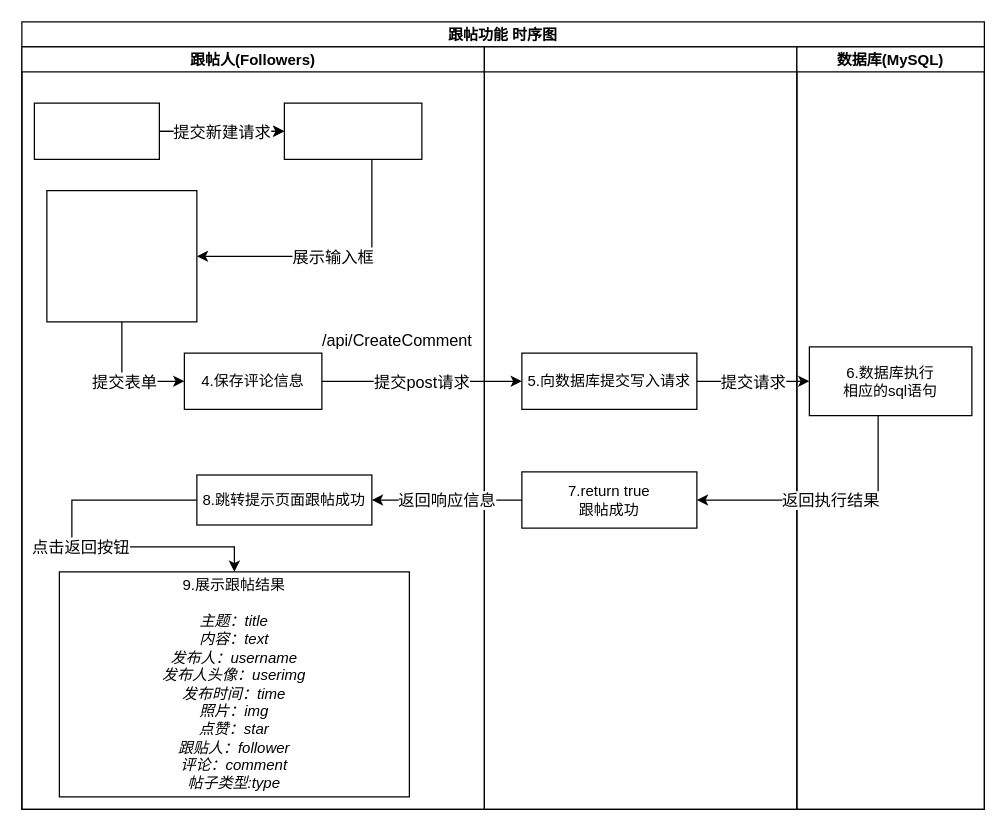
This 1006x831 diagram has some shape labels left out. The box of each missing label's shape, as (x1, y1, x2, y2) in pixels:
1.点击评论帖子: (33, 102, 159, 159)
2.返回填写页面: (283, 102, 422, 159)
3.填写评论信息 跟帖人：follower 评论：comment: (46, 189, 197, 322)
帖子模块服务(Service): (483, 46, 797, 809)
